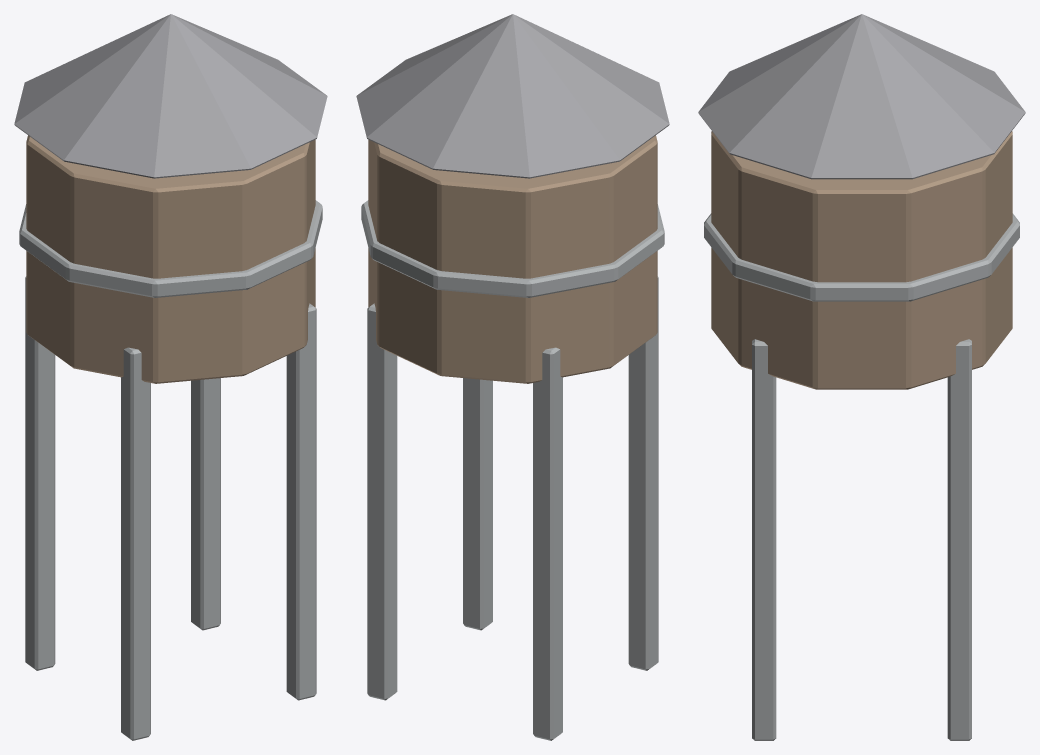
Rendered from watertower.glb.
3 views of the same model, side by side, from view 1: azimuth 30°, elevation 25°; view 2: azimuth 150°, elevation 25°; view 3: azimuth 270°, elevation 25° (orthographic). The views are drawn at different scales.
Parts seen in each view (by area): view 1: tank, roof, leg, leg.001, leg.003, leg.002, band; view 2: tank, roof, leg.003, leg.002, leg, leg.001, band; view 3: tank, roof, leg.001, leg.002, band.
Part boxes in pixels (bbox=[...]): tank: bbox=[26, 135, 315, 383]; roof: bbox=[14, 14, 327, 178]; leg: bbox=[121, 347, 150, 740]; leg.001: bbox=[286, 303, 316, 700]; leg.003: bbox=[25, 276, 55, 670]; leg.002: bbox=[191, 378, 220, 630]; band: bbox=[19, 200, 322, 297]; tank: bbox=[368, 135, 657, 383]; roof: bbox=[356, 14, 669, 178]; leg.003: bbox=[533, 347, 562, 740]; leg.002: bbox=[367, 303, 397, 700]; leg: bbox=[628, 276, 658, 670]; leg.001: bbox=[463, 378, 492, 630]; band: bbox=[361, 200, 664, 297]; tank: bbox=[711, 131, 1012, 389]; roof: bbox=[698, 14, 1025, 179]; leg.001: bbox=[752, 339, 776, 740]; leg.002: bbox=[947, 339, 971, 740]; band: bbox=[704, 213, 1019, 301].
Size of the model in its own units: 1.27 by 3.07 by 1.34.
